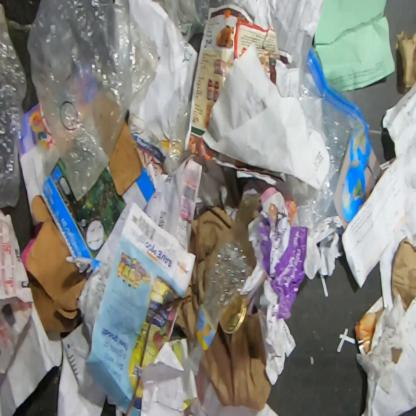cardboard: (19, 119, 157, 334), (175, 193, 264, 340), (201, 314, 273, 412), (334, 123, 382, 231), (391, 240, 416, 312), (394, 29, 415, 95)
metal: (219, 294, 248, 335)
rigid_plastic: (182, 240, 251, 378)
soft_plastic: (26, 0, 160, 203), (296, 43, 368, 238), (0, 2, 29, 211), (150, 0, 230, 44), (162, 100, 192, 176)
